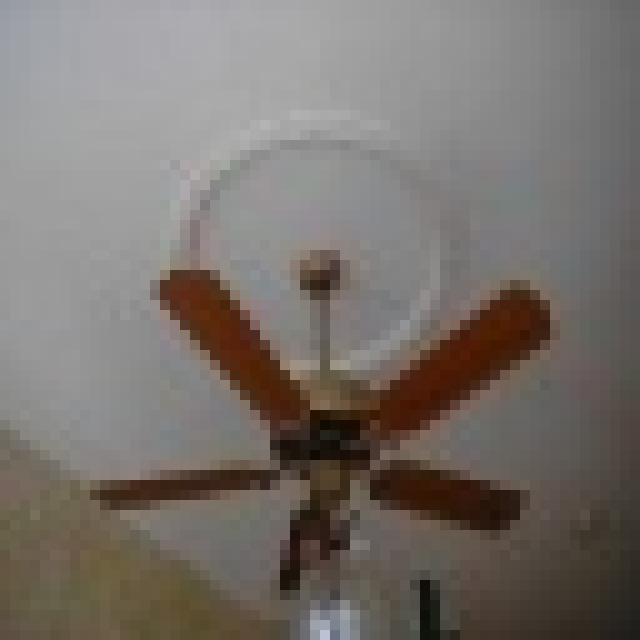Bulb: (100, 248, 640, 618)
